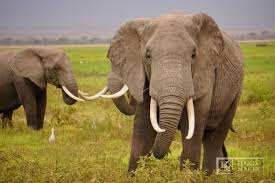Elephant: (87, 11, 246, 172)
